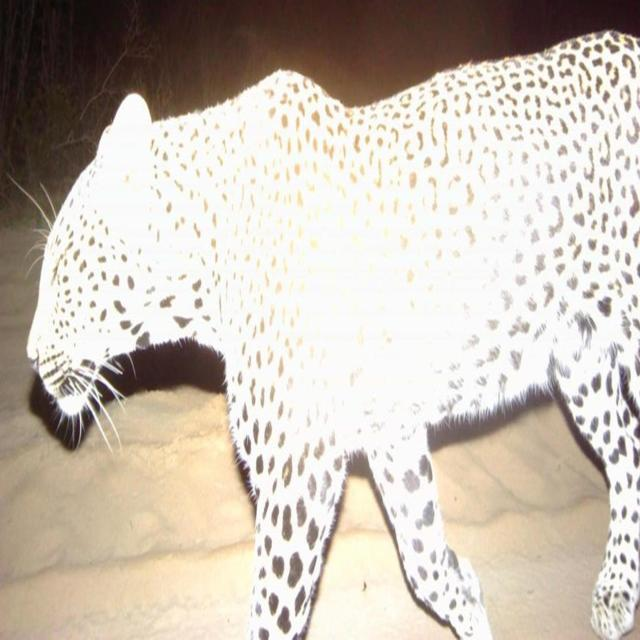Leopard: (15, 18, 639, 640)
